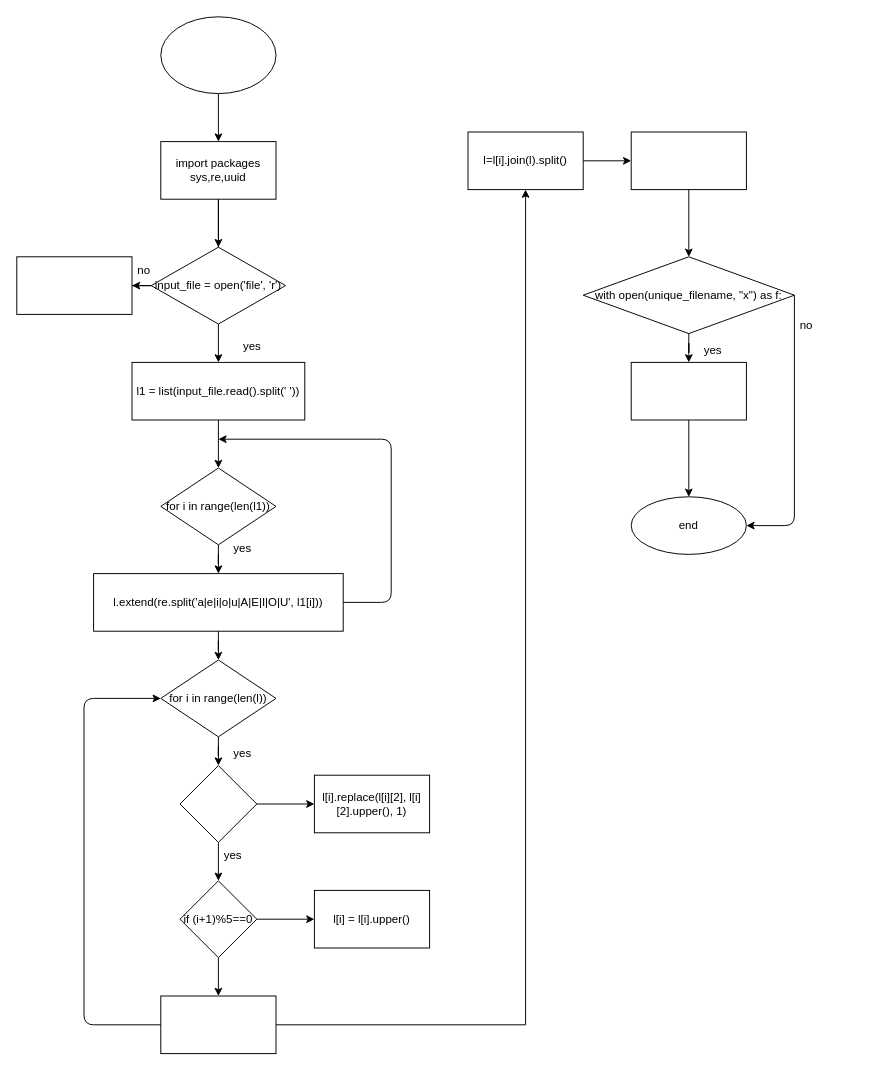
The diagram is 869 pixels wide and 1070 high, and some of its shapes have lost their labels. Each missing label, with the box of its shape:
f.write("-".join(l)): (630, 361, 746, 420)
i/o exception: (16, 256, 132, 314)
if len(l[i])>=3: (179, 765, 257, 842)
l[i] = l[i].replace('\n', ';'): (160, 995, 276, 1054)
start: (160, 16, 276, 94)
unique_filename = str(uuid.uuid4()) unique_filename += '.txt': (630, 131, 746, 190)
